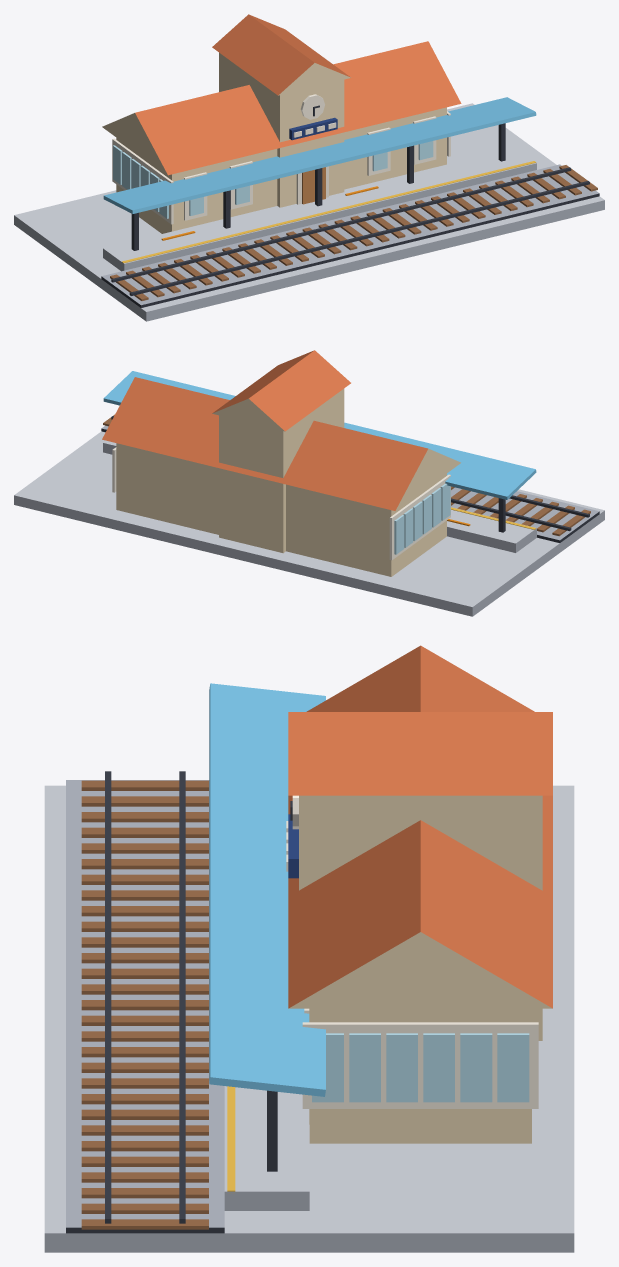
The model's file is public_train_station.glb.
3 renders of one model, top to bottom at view 1: azimuth 30°, elevation 25°; view 2: azimuth 150°, elevation 25°; view 3: azimuth 270°, elevation 25°, orthographic. The views are drawn at different scales.
Parts seen in each view (by area): view 1: public_train_station; view 2: public_train_station; view 3: public_train_station.
Part boxes in pixels (x1,y1,x2,y2): public_train_station: [14, 14, 604, 321]; public_train_station: [14, 350, 604, 616]; public_train_station: [44, 645, 574, 1252].
Bounding box in the file's own units: 2.01 × 0.66 × 1.
